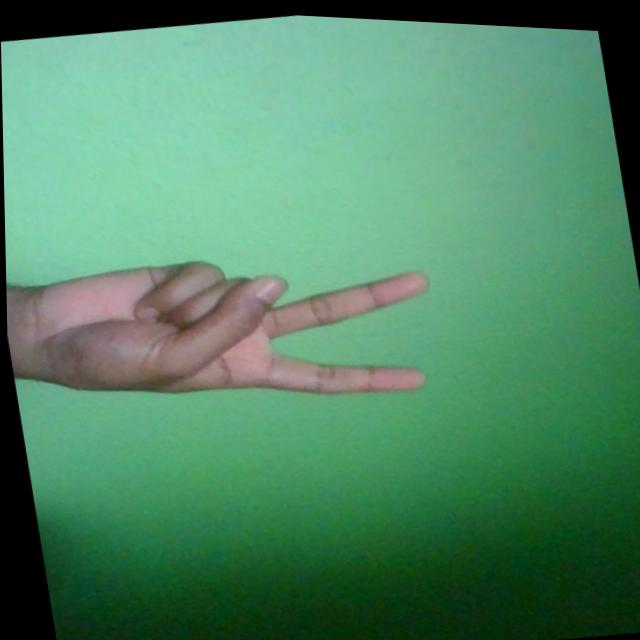Peace: (19, 219, 446, 439)
